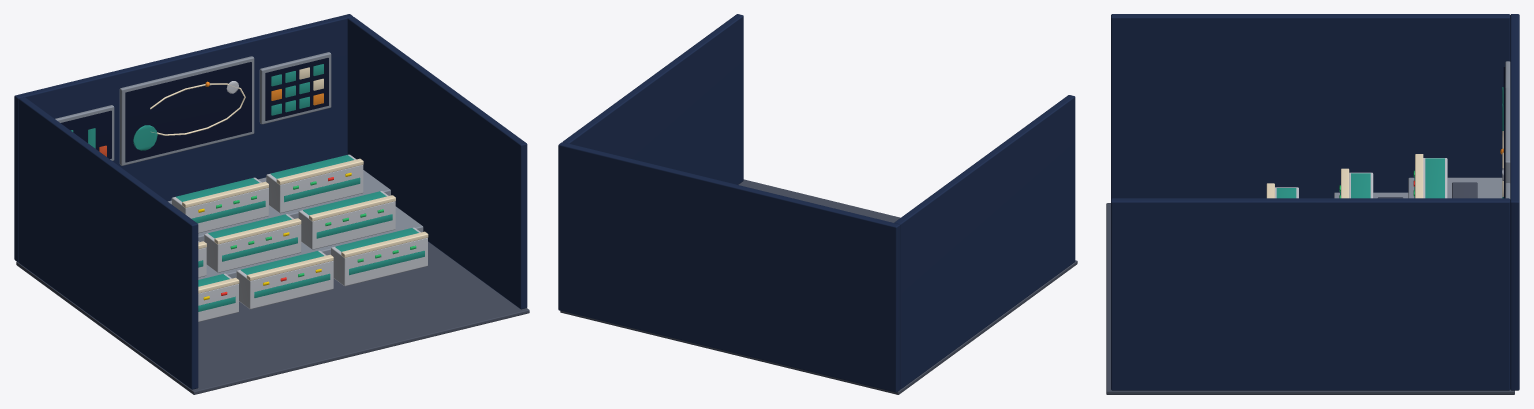
The model's file is Scene_MissionControl.fbx.
3 views of the same model, side by side, from view 1: azimuth 30°, elevation 25°; view 2: azimuth 150°, elevation 25°; view 3: azimuth 270°, elevation 25° (orthographic). The views are drawn at different scales.
Parts seen in each view (by area): view 1: Scene_MissionControl.Walls, Scene_MissionControl.Floor, Scene_MissionControl.Screen_Center, Scene_MissionControl.Desks_1, Scene_MissionControl.Desks_2, Scene_MissionControl.Desks_3, Scene_MissionControl.Screen_Right, Scene_MissionControl.Tiers, Scene_MissionControl.Screen_Left; view 2: Scene_MissionControl.Walls, Scene_MissionControl.Floor; view 3: Scene_MissionControl.Walls, Scene_MissionControl.Floor, Scene_MissionControl.Desks_3, Scene_MissionControl.Tiers, Scene_MissionControl.Desks_2, Scene_MissionControl.Screen_Center, Scene_MissionControl.Risers, Scene_MissionControl.Desks_1.
Part boxes in pixels (x1,y1,x2,y2): Scene_MissionControl.Walls: [14, 14, 527, 389]; Scene_MissionControl.Floor: [16, 241, 529, 394]; Scene_MissionControl.Screen_Center: [119, 56, 254, 165]; Scene_MissionControl.Desks_1: [198, 227, 428, 321]; Scene_MissionControl.Desks_2: [198, 191, 395, 277]; Scene_MissionControl.Desks_3: [171, 154, 363, 233]; Scene_MissionControl.Screen_Right: [259, 52, 331, 124]; Scene_MissionControl.Tiers: [168, 170, 423, 279]; Scene_MissionControl.Screen_Left: [55, 105, 114, 160]; Scene_MissionControl.Walls: [558, 14, 1075, 392]; Scene_MissionControl.Floor: [560, 179, 1077, 394]; Scene_MissionControl.Walls: [1111, 14, 1519, 390]; Scene_MissionControl.Floor: [1106, 203, 1514, 394]; Scene_MissionControl.Desks_3: [1414, 154, 1447, 198]; Scene_MissionControl.Tiers: [1334, 177, 1502, 198]; Scene_MissionControl.Desks_2: [1340, 168, 1373, 198]; Scene_MissionControl.Screen_Center: [1500, 87, 1510, 196]; Scene_MissionControl.Risers: [1378, 182, 1477, 198]; Scene_MissionControl.Desks_1: [1266, 183, 1298, 198].
Size of the model in its own units: 9.6 by 4.6 by 8.9.
Materials: 1 (1 with a texture image).
